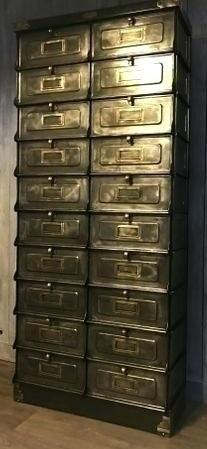cabinet_door: (92, 95, 173, 136), (88, 136, 173, 175), (87, 214, 172, 253), (95, 14, 177, 54), (92, 56, 174, 95), (88, 251, 171, 289), (87, 327, 169, 365), (88, 289, 168, 327), (89, 176, 171, 213), (89, 367, 168, 405), (92, 132, 172, 169), (17, 349, 89, 386), (19, 27, 91, 63), (21, 67, 91, 103), (19, 103, 89, 138), (19, 312, 86, 347), (20, 176, 87, 210), (17, 280, 85, 313), (19, 249, 89, 281), (16, 210, 86, 241), (22, 140, 87, 171)
handle: (40, 349, 59, 365), (118, 322, 133, 341), (121, 209, 135, 229), (120, 249, 137, 265), (45, 243, 59, 262), (124, 13, 139, 30), (43, 280, 59, 295), (124, 94, 139, 109), (45, 25, 59, 41), (45, 62, 59, 78), (45, 100, 59, 116), (43, 209, 59, 223), (117, 287, 133, 301), (45, 137, 59, 152), (43, 315, 57, 330), (125, 53, 137, 69), (46, 173, 58, 189), (124, 174, 135, 189), (125, 132, 135, 148), (118, 365, 131, 377)
